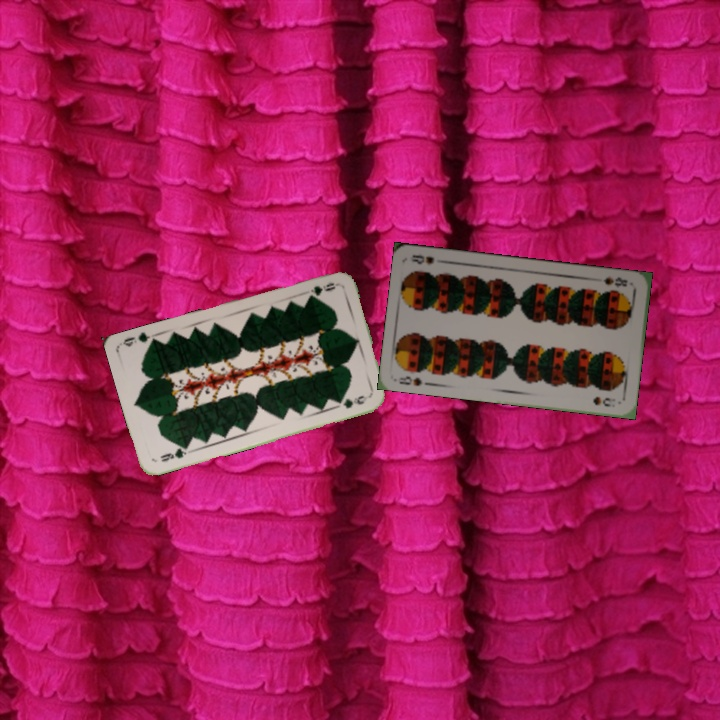G9: (304, 279, 340, 302), (156, 442, 191, 464)
S8: (600, 272, 630, 290), (395, 372, 424, 388)
